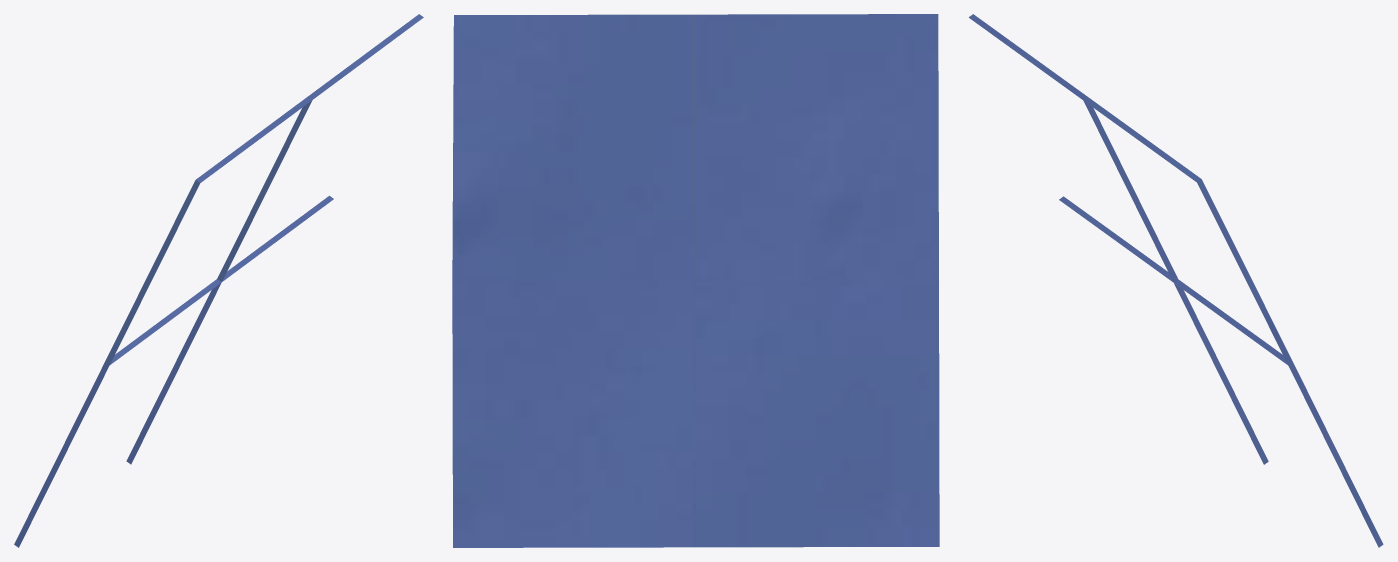
The picture shows the model from 3 angles, left to right: view 1: azimuth 30°, elevation 25°; view 2: azimuth 150°, elevation 25°; view 3: azimuth 270°, elevation 25°; orthographic projection. The views are drawn at different scales.
Size of the model in its own units: 19658 by 17886 by 16343.
1 material, 1 textured.
